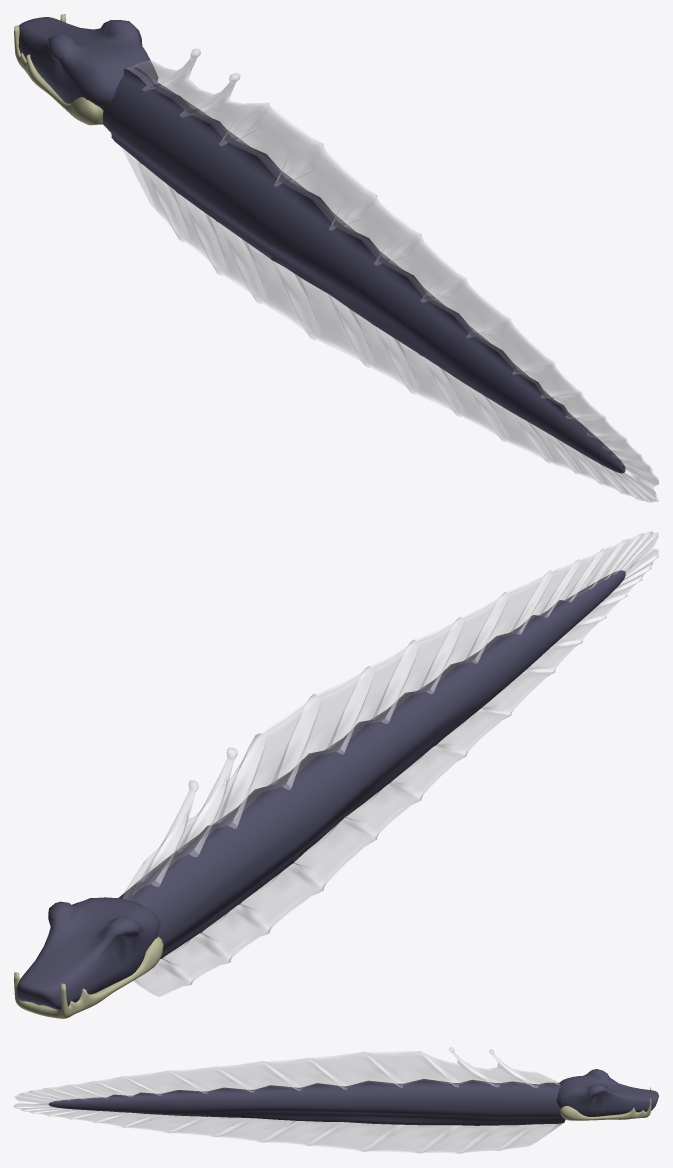
Rendered from monster animation test.fbx.
3 renders of one model, top to bottom at view 1: azimuth 30°, elevation 25°; view 2: azimuth 150°, elevation 25°; view 3: azimuth 270°, elevation 25°, orthographic. The views are drawn at different scales.
Visible parts, largest first — view 1: body, haed, jaw; view 2: body, haed, jaw; view 3: body, haed, jaw.
Boxes of the visible parts, x1,y1,x2,y2 form: body: [102, 48, 658, 502]; haed: [18, 17, 158, 109]; jaw: [14, 14, 103, 125]; body: [118, 531, 658, 997]; haed: [16, 897, 160, 1009]; jaw: [14, 936, 163, 1018]; body: [14, 1047, 565, 1153]; haed: [556, 1069, 658, 1116]; jaw: [560, 1087, 651, 1120].
Size of the model in its own units: 32.02 by 73.51 by 403.
